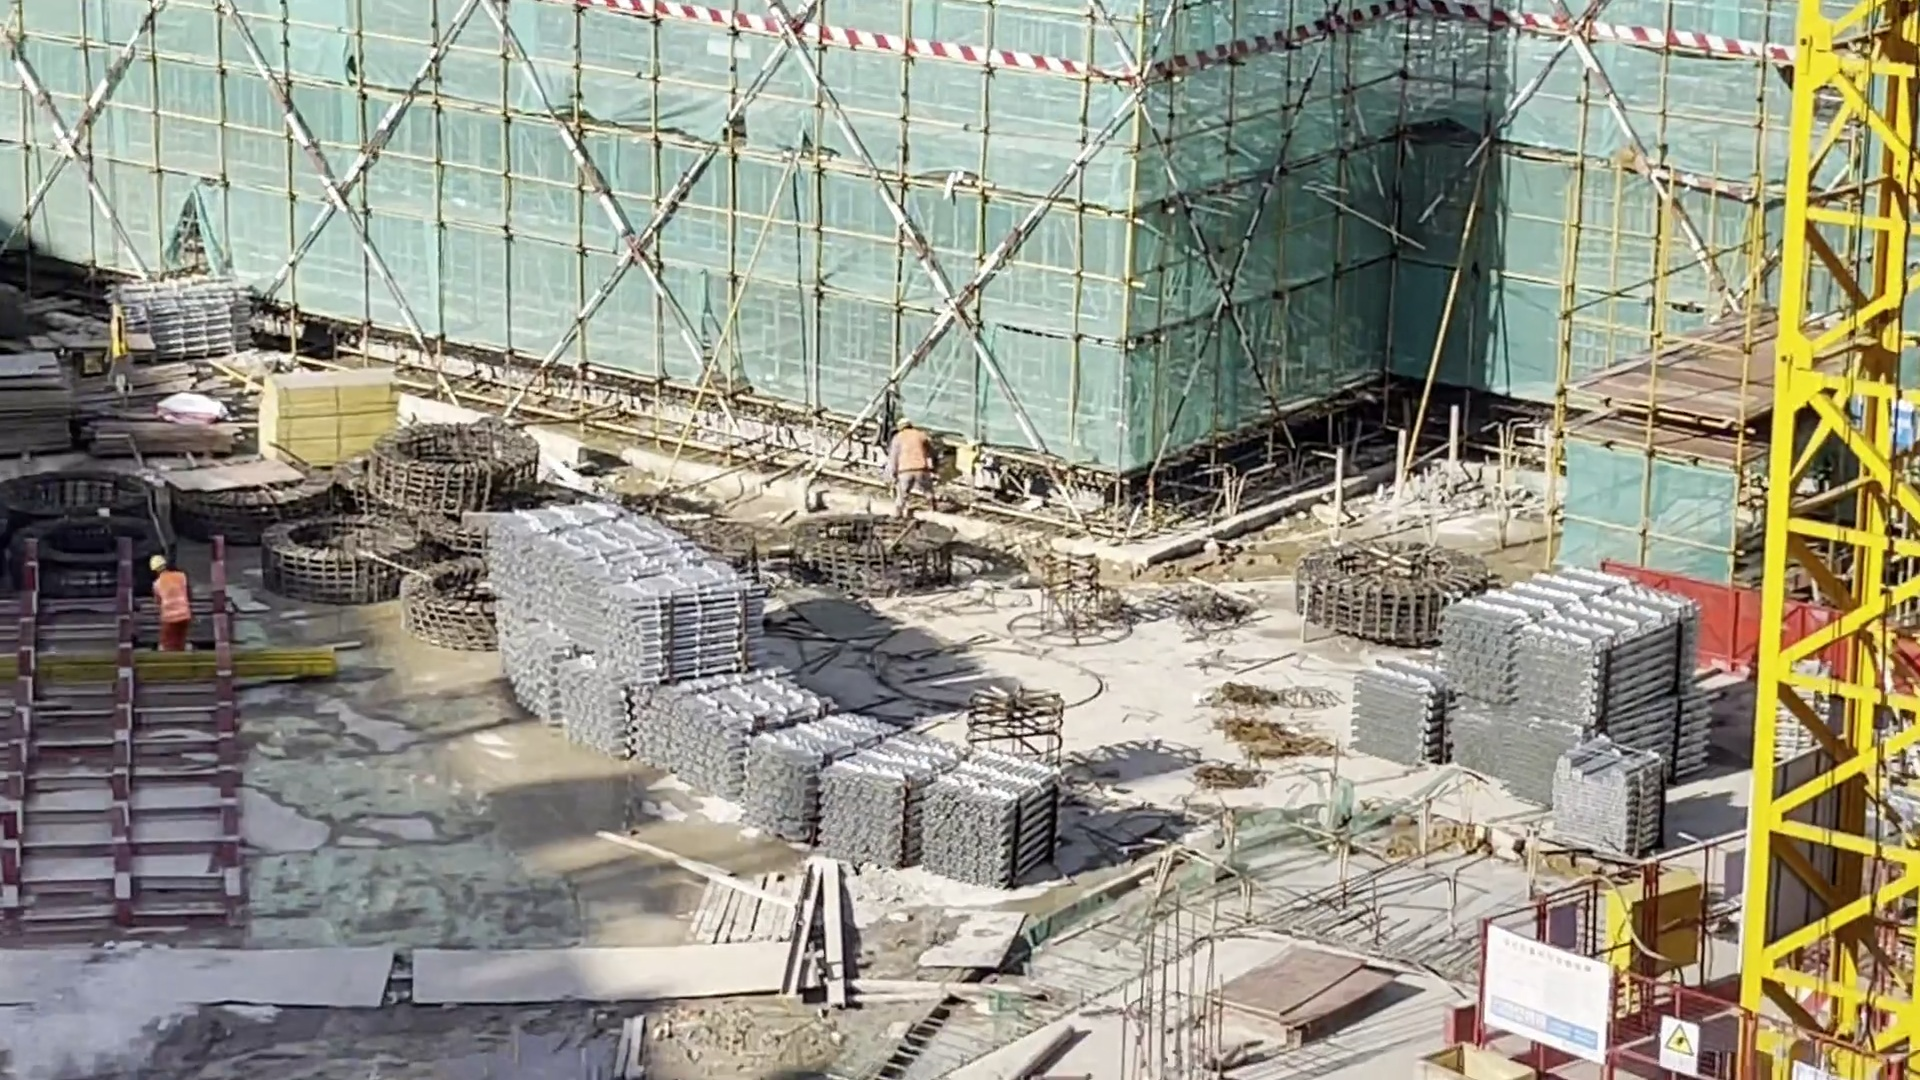board: (252, 376, 413, 456), (1211, 956, 1369, 1034)
ebox: (1604, 872, 1701, 980)
fence: (1682, 580, 1762, 661)
helmet: (151, 557, 165, 569)
person: (892, 418, 935, 512), (148, 557, 190, 653)
scaffold: (1446, 577, 1713, 788), (744, 719, 1063, 892), (482, 512, 763, 685), (635, 681, 823, 800), (1554, 745, 1663, 861), (1354, 650, 1451, 770), (120, 284, 248, 362)
slogan: (1659, 1022, 1694, 1072)
vest: (161, 573, 190, 629), (893, 433, 932, 472)
